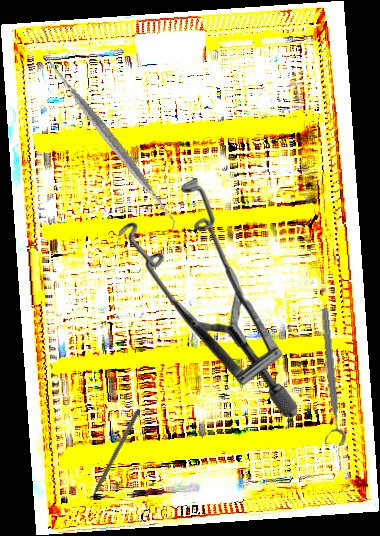Fixation Ring: (309, 307, 347, 448)
Pusher: (81, 407, 142, 513)
Spatula Surgical: (18, 51, 205, 232)
Speculum: (119, 178, 297, 417)
